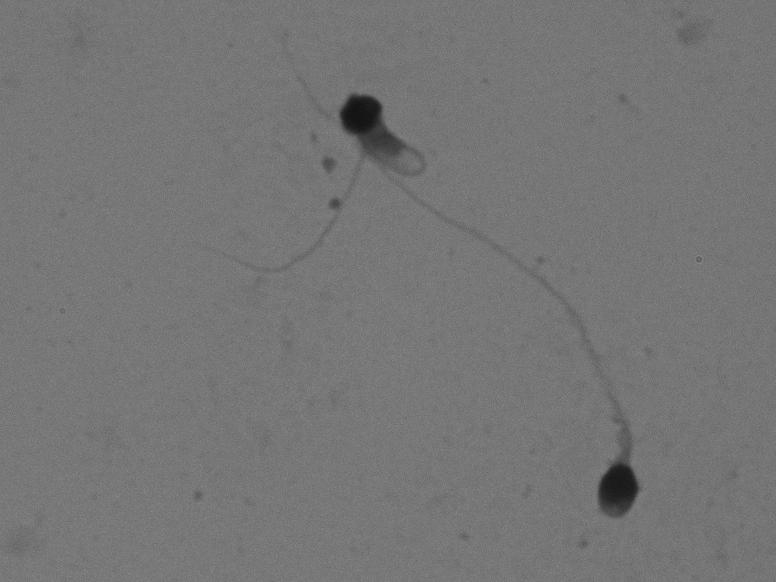Abnormal: (374, 172, 667, 532), (169, 77, 463, 286)
